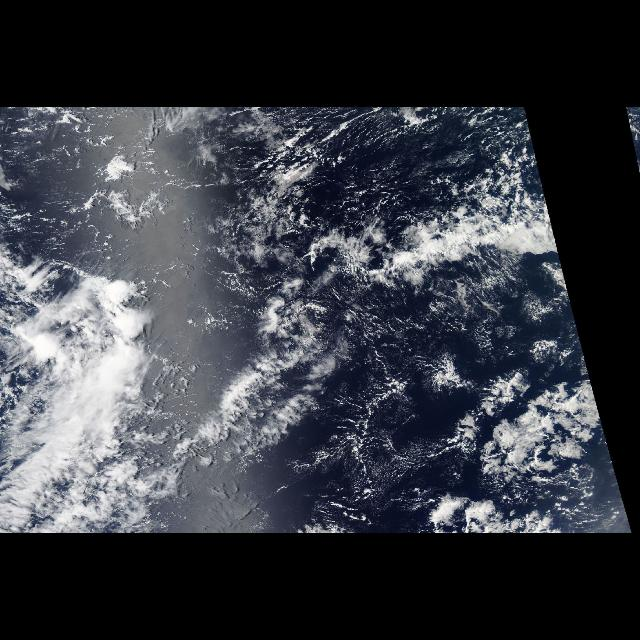Fish: (176, 192, 608, 503)
